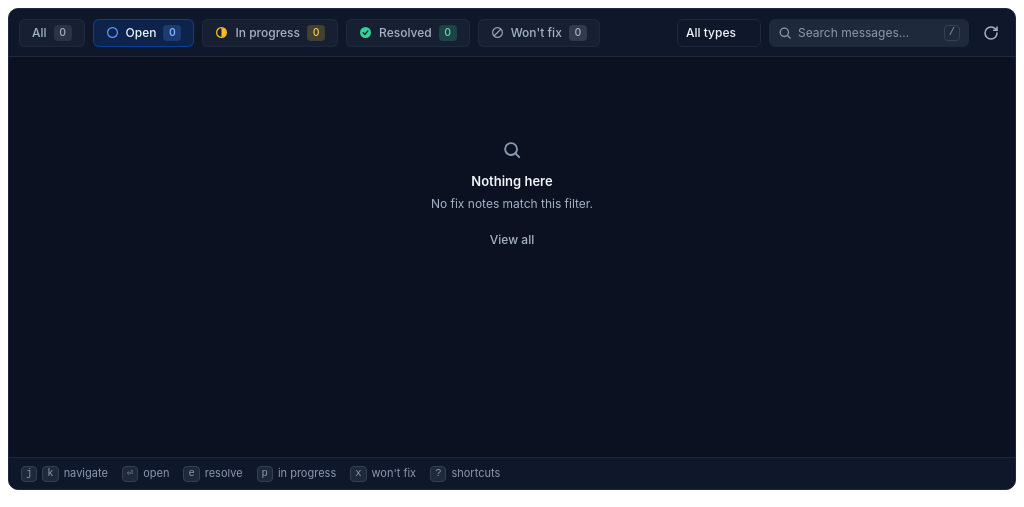
Test: InstaFixInbox — empty & error states › shows the filtered-empty state, then the project-empty state via View all
Check: the text "Nothing here" is shown, box [471, 172, 553, 191]
What coordinates should you click on to do the following:
click the button "View all"
I would click on:
 (512, 240)
Its box is [477, 226, 547, 254].
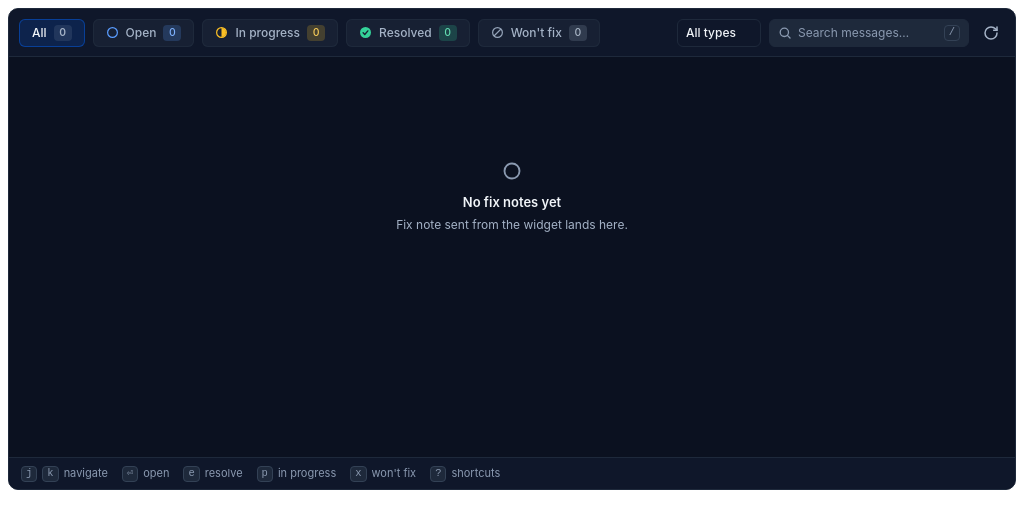
Check: the text "No fix notes yet" is shown, box [463, 193, 561, 212]
